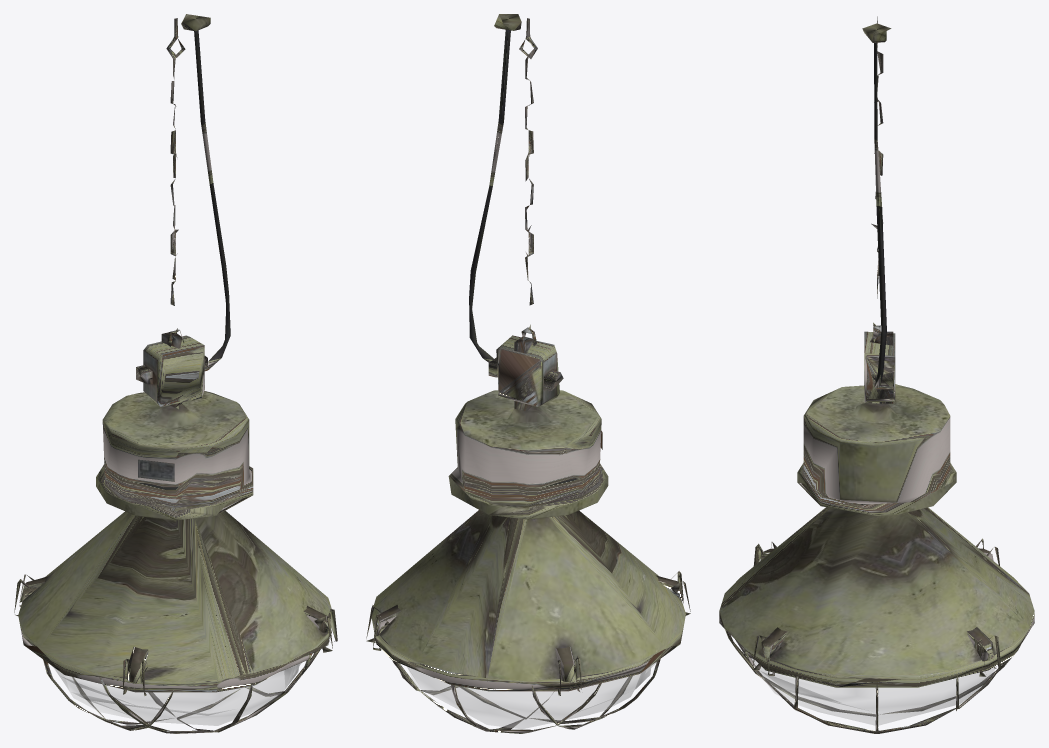
Rendered from hanging_industrial_lamp.gltf.
The picture shows the model from 3 angles, left to right: view 1: azimuth 30°, elevation 25°; view 2: azimuth 150°, elevation 25°; view 3: azimuth 270°, elevation 25°; orthographic projection.
Bounding box in the file's own units: 0.5462 × 1.35 × 0.5496.
2 materials, 1 textured.
